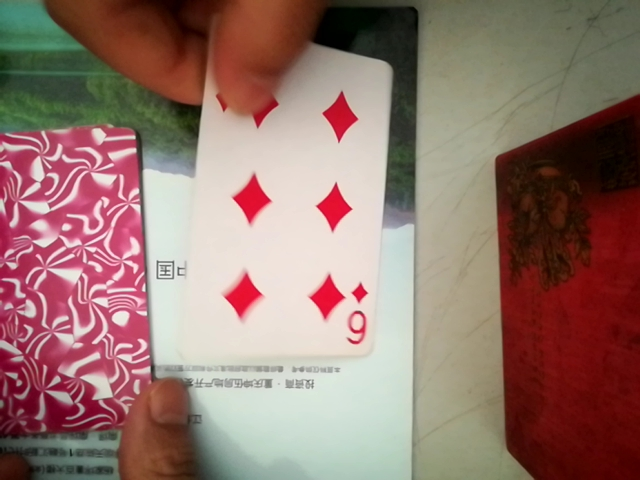fk 6: (180, 47, 389, 382)
